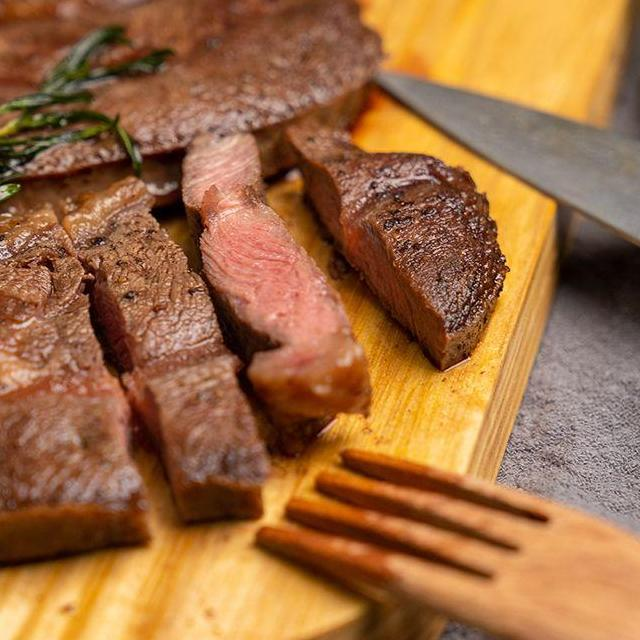thit bo: (0, 0, 396, 293), (58, 171, 277, 530), (0, 195, 158, 639), (269, 105, 514, 379), (190, 175, 384, 430)
